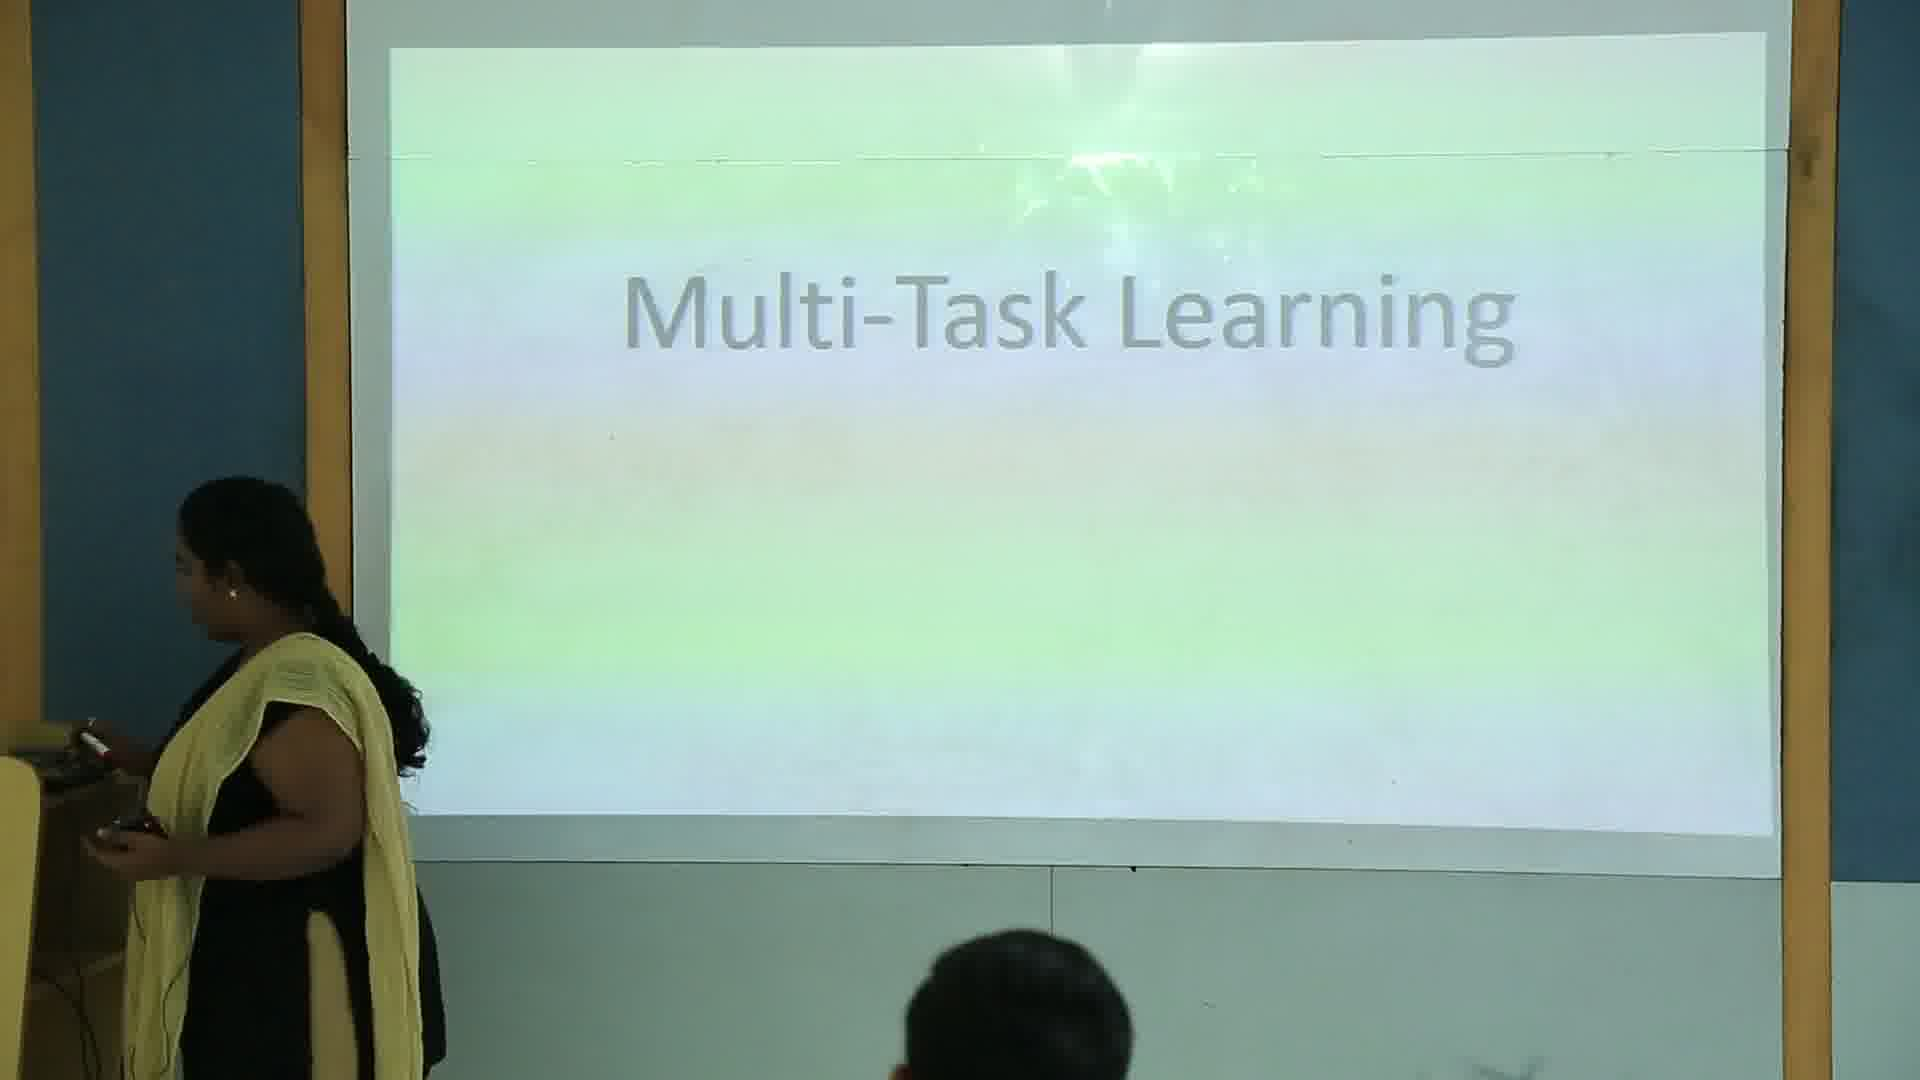slide: (390, 32, 1778, 837)
